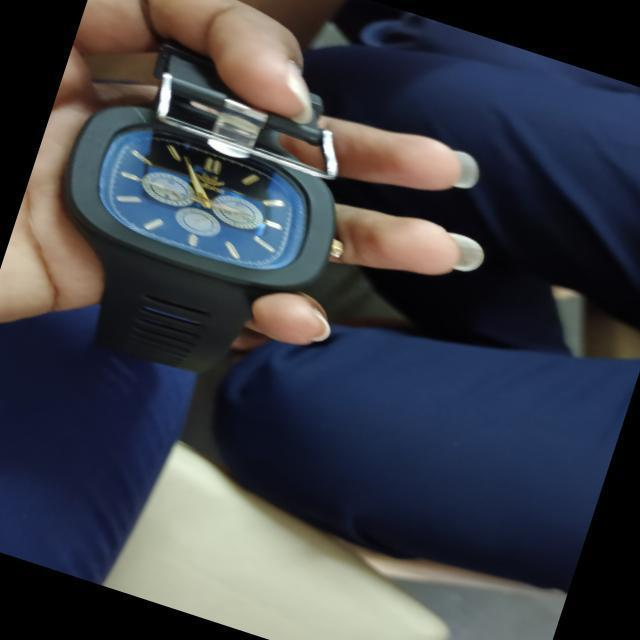Watch: (62, 40, 344, 375)
